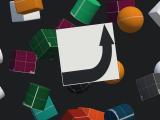Left: (56, 22, 120, 86)
